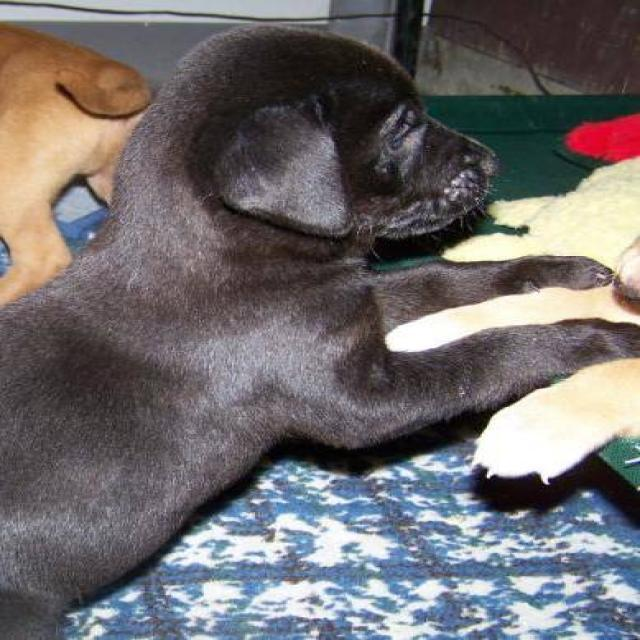dogs: (0, 25, 631, 640)
